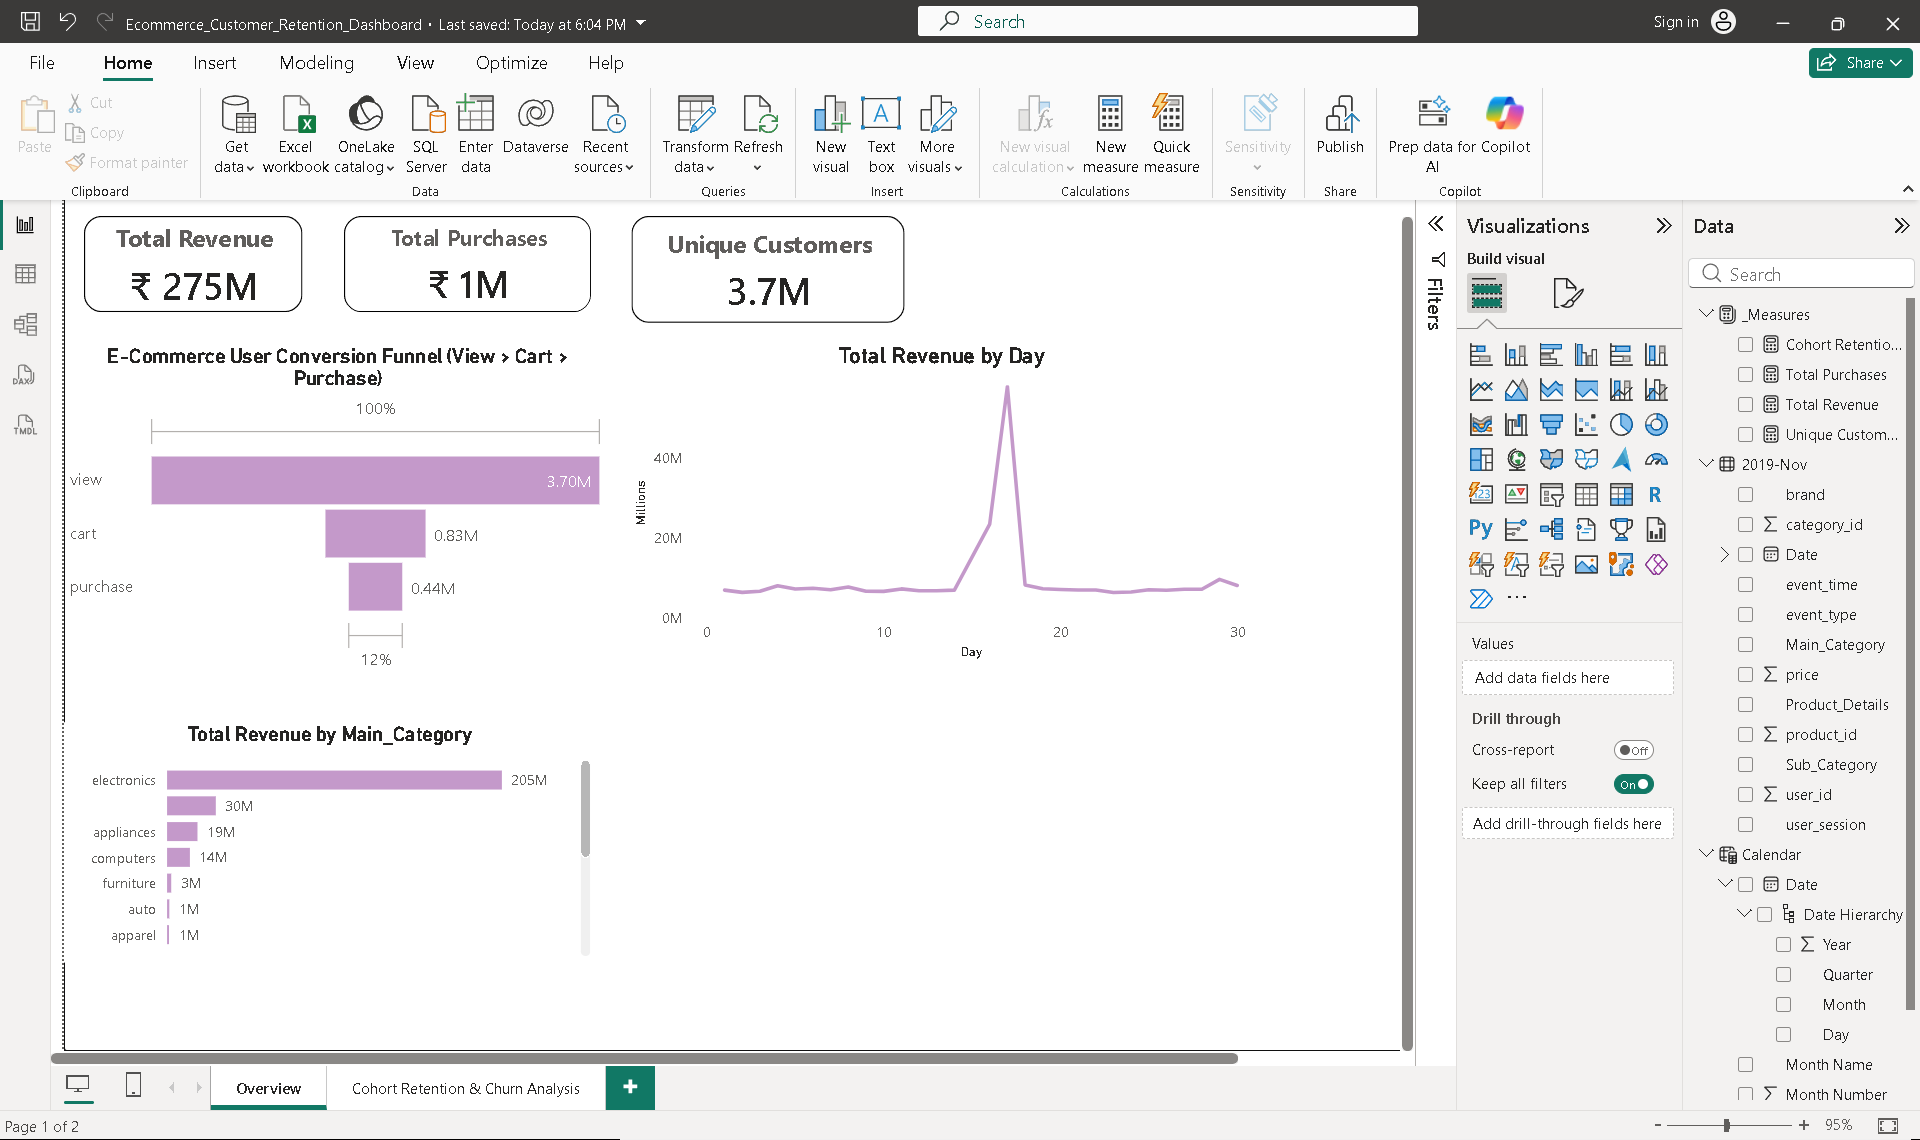

The dashboard page shown, as its layout file describes it:
{"tool":"powerbi","page":{"name":"Overview","canvas":[1280,720],"ordinal":0},"visuals":[{"type":"cardVisual","title":"hg","fields":{"Data":["_Measures.Total Revenue"]},"box":[0,0,218.9,115.8],"z":0},{"type":"cardVisual","fields":{"Data":["_Measures.Total Purchases"]},"box":[218.9,0,242.1,115.8],"z":1},{"type":"cardVisual","fields":{"Data":["_Measures.Unique Customers"]},"box":[461.1,0,264.2,124.2],"z":2},{"type":"funnel","title":"E-Commerce User Conversion Funnel (View > Cart > Purchase)","fields":{"Category":["2019-Nov.event_type"],"Y":["Count(2019-Nov.user_id)"]},"box":[0,124.2,461.1,282.1],"z":3},{"type":"lineChart","fields":{"Y":["_Measures.Total Revenue"],"Category":["2019-Nov.Date.Variation.Date Hierarchy.Day"]},"box":[475.8,124.2,527.4,270.5],"z":4},{"type":"barChart","fields":{"Category":["2019-Nov.Main_Category"],"Y":["_Measures.Total Revenue"]},"box":[0,443.2,448.4,202.1],"z":5}]}

Visuals, with their boxes on the page's 1280x720 design canvas (x1, y1, x2, y2). These are canvas units, not pixel positions in the 1920x1140 screenshot, which may show the page scaled, cropped or inside an application window:
"hg" cardVisual: left=0, top=0, right=219, bottom=116
cardVisual - _Measures.Total Purchases: left=219, top=0, right=461, bottom=116
cardVisual - _Measures.Unique Customers: left=461, top=0, right=725, bottom=124
"E-Commerce User Conversion Funnel (View > Cart > Purchase)" funnel: left=0, top=124, right=461, bottom=406
lineChart - _Measures.Total Revenue x 2019-Nov.Date.Variation.Date Hierarchy.Day: left=476, top=124, right=1003, bottom=395
barChart - 2019-Nov.Main_Category x _Measures.Total Revenue: left=0, top=443, right=448, bottom=645
